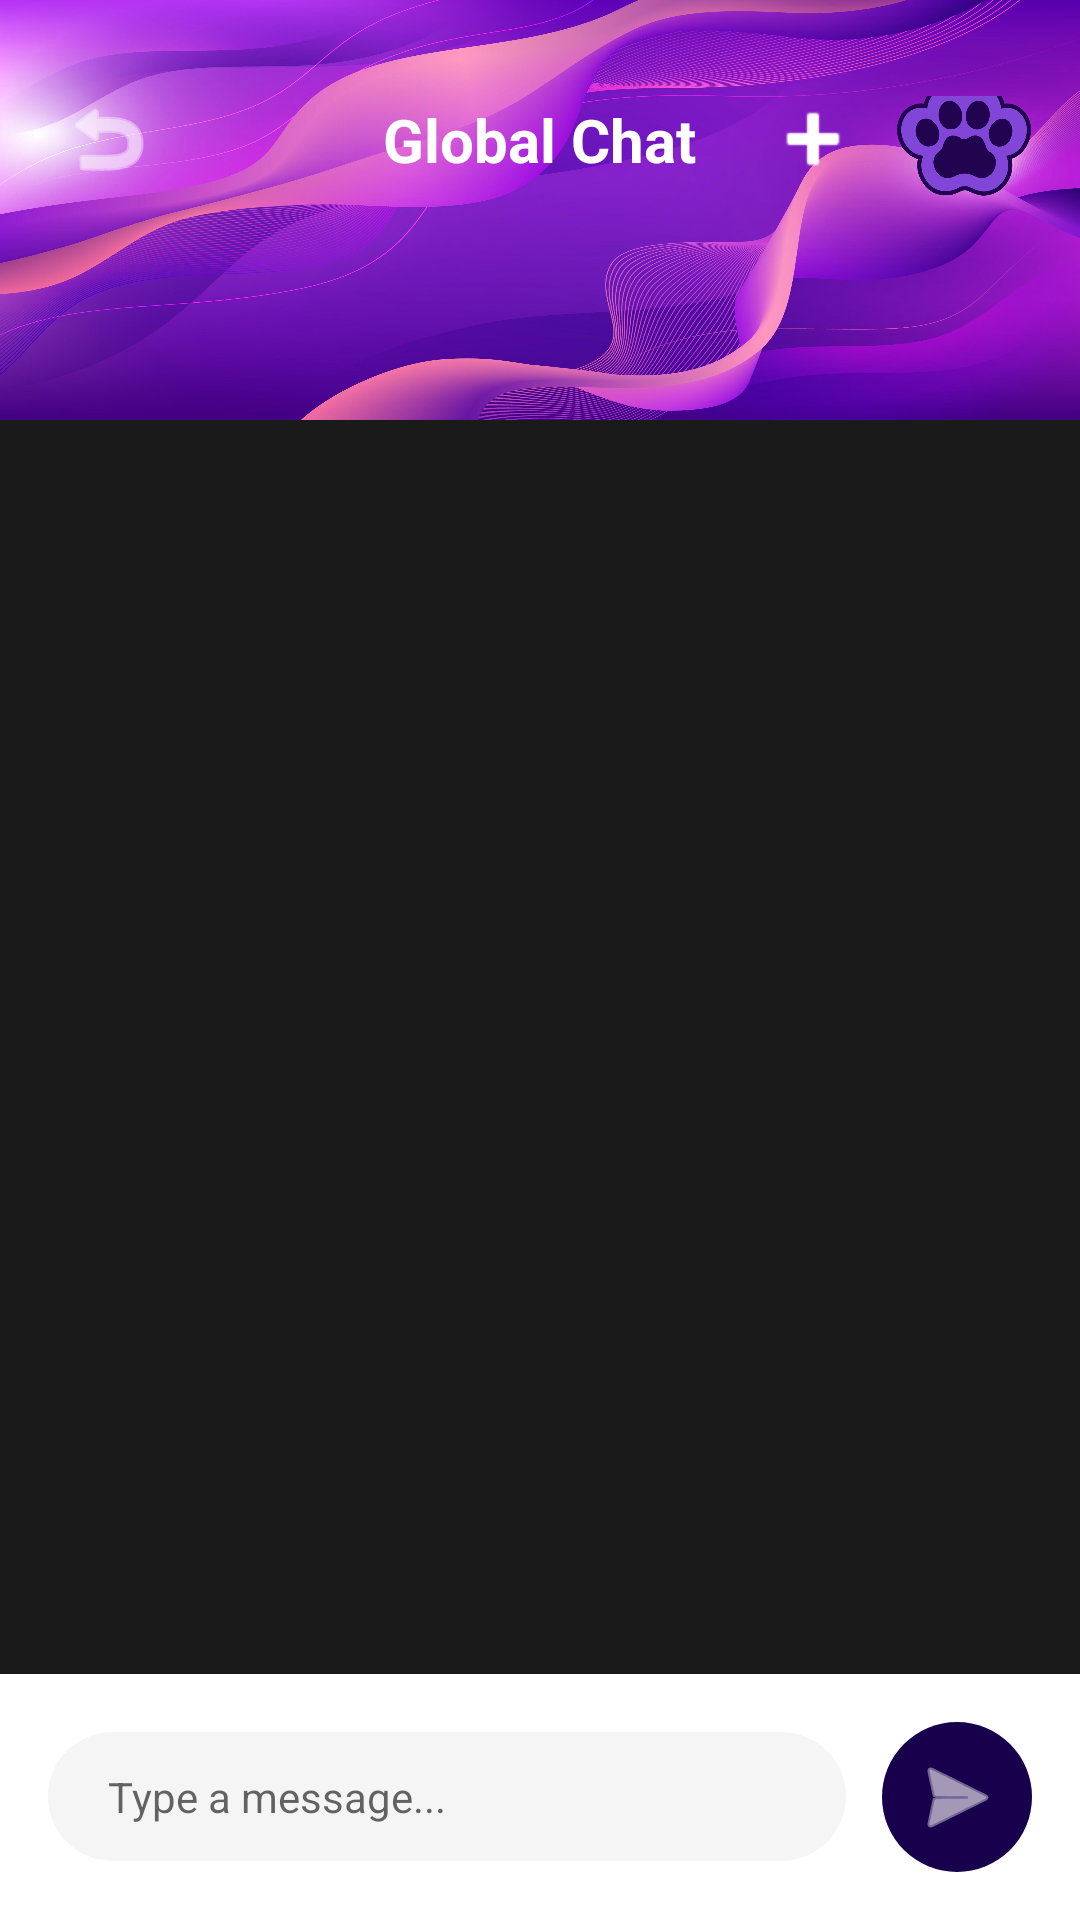

Where to tap for icons on this 1080x1920 app screen, as point (x, y):
revert: point (108, 139)
send: point (957, 1797)
